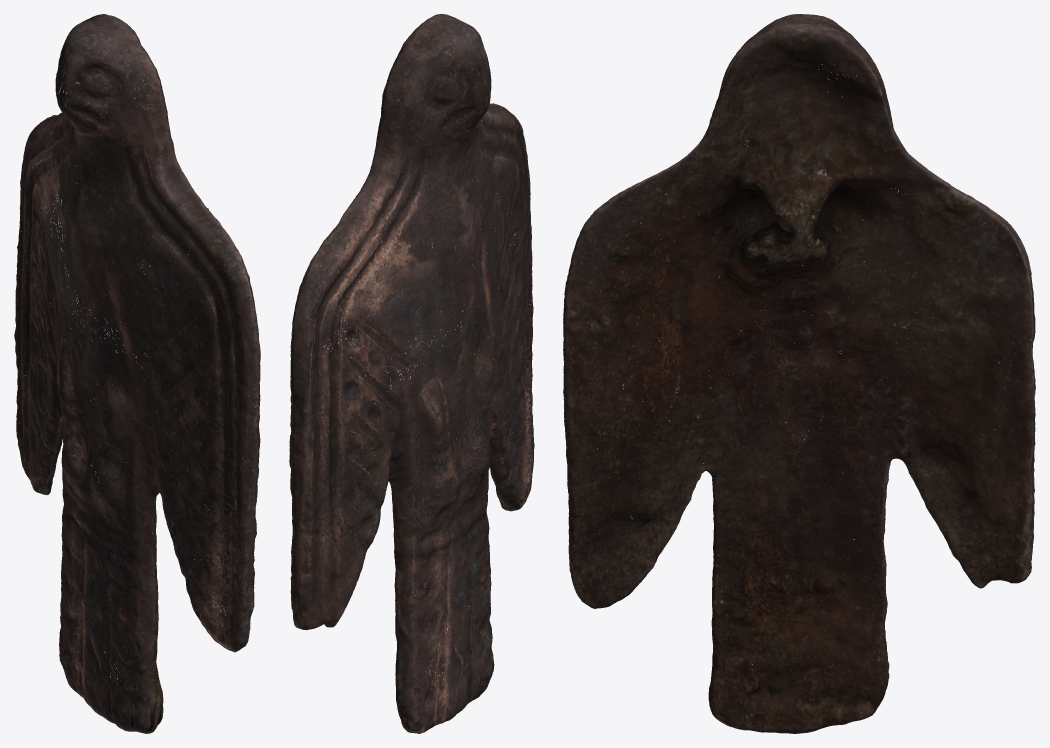
The model's file is bird1_low.glb.
3 renders of one model, left to right at view 1: azimuth 30°, elevation 25°; view 2: azimuth 150°, elevation 25°; view 3: azimuth 270°, elevation 25°, orthographic. The views are drawn at different scales.
Visible parts, largest first — view 1: Model; view 2: Model; view 3: Model.
Boxes of the visible parts, x1,y1,x2,y2 form: Model: [14, 14, 260, 733]; Model: [289, 14, 534, 733]; Model: [563, 14, 1035, 733].
Size of the model in its own units: 1.22 by 9.05 by 5.46.
Materials: 1 (1 with a texture image).
